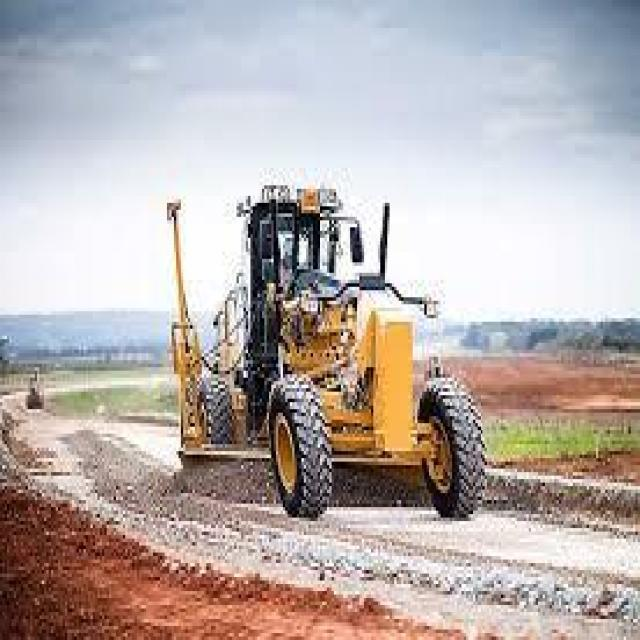Grader: (144, 164, 489, 546)
